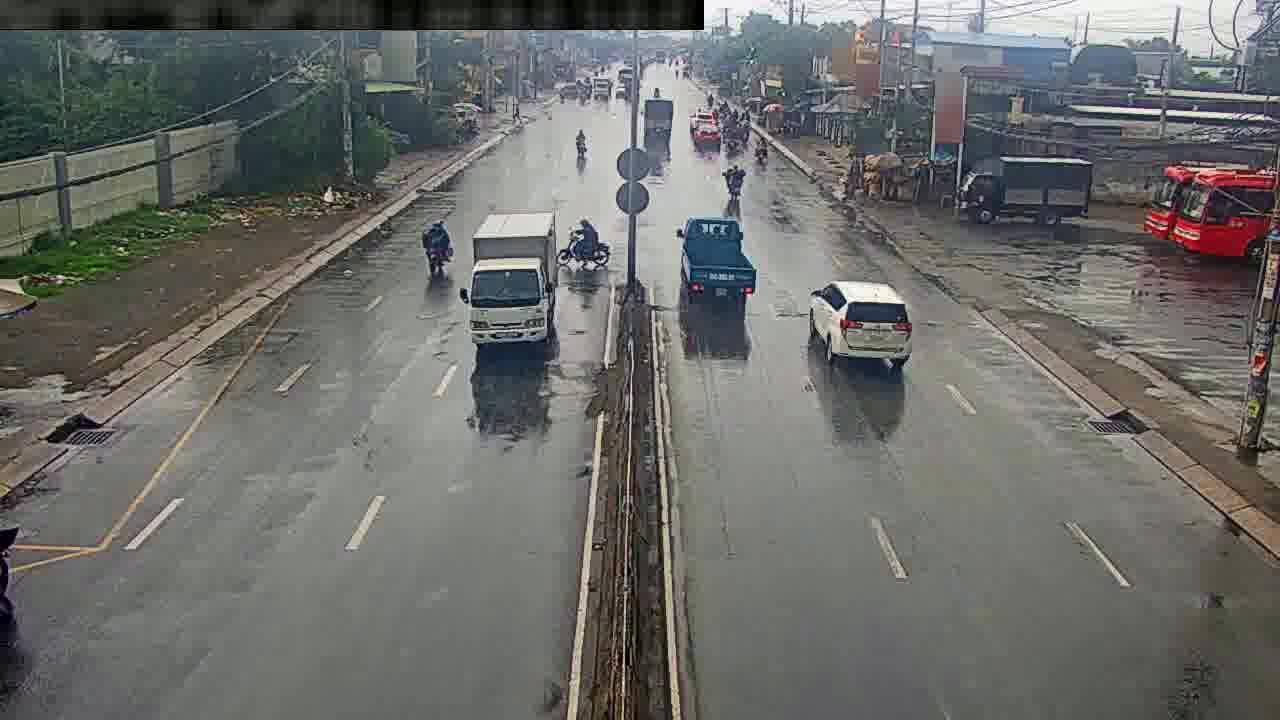car: (806, 280, 910, 367)
container: (470, 210, 558, 341), (679, 218, 758, 295), (640, 97, 673, 142)
motorbike: (0, 536, 33, 629), (557, 221, 609, 272), (423, 212, 451, 278), (723, 158, 742, 207), (574, 124, 589, 164), (752, 130, 767, 167)
